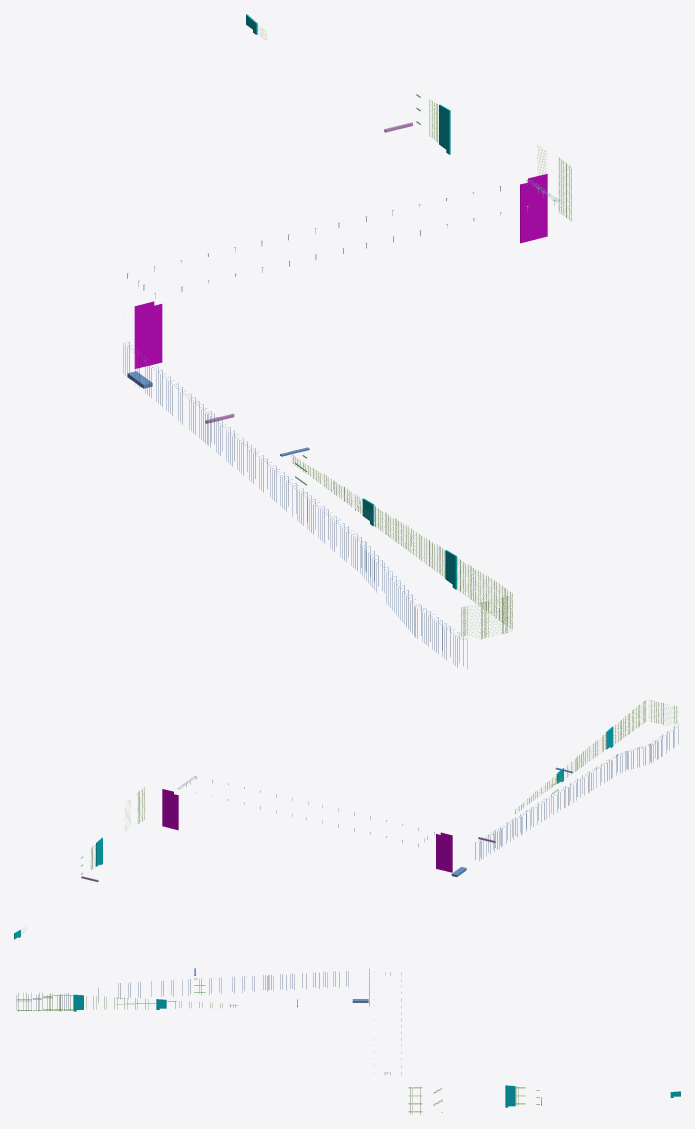
3 renders of one model, top to bottom at view 1: azimuth 30°, elevation 25°; view 2: azimuth 150°, elevation 25°; view 3: azimuth 270°, elevation 25°, orthographic. The views are drawn at different scales.
Parts seen in each view (by area): view 1: 1IEzkf000_RJ4pDpasE34o, 1IEzkf000_QJ4pDpasE34m, 1IG2e50003qJ4pDpavCpWu, 1IG2e50003sJ4pDpavCpWv; view 2: 1IEzkf000_RJ4pDpasE34o, 1IEzkf000_QJ4pDpasE34m; view 3: no part large enough to name.
Boxes of the visible parts, <box> form: 1IEzkf000_RJ4pDpasE34o: <box>134,301,162,368</box>; 1IEzkf000_QJ4pDpasE34m: <box>520,174,547,243</box>; 1IG2e50003qJ4pDpavCpWu: <box>123,342,209,444</box>; 1IG2e50003sJ4pDpavCpWv: <box>208,414,294,516</box>; 1IEzkf000_RJ4pDpasE34o: <box>436,832,452,872</box>; 1IEzkf000_QJ4pDpasE34m: <box>162,789,178,830</box>.
Size of the model in its own units: 56.44 by 10.8 by 129.
